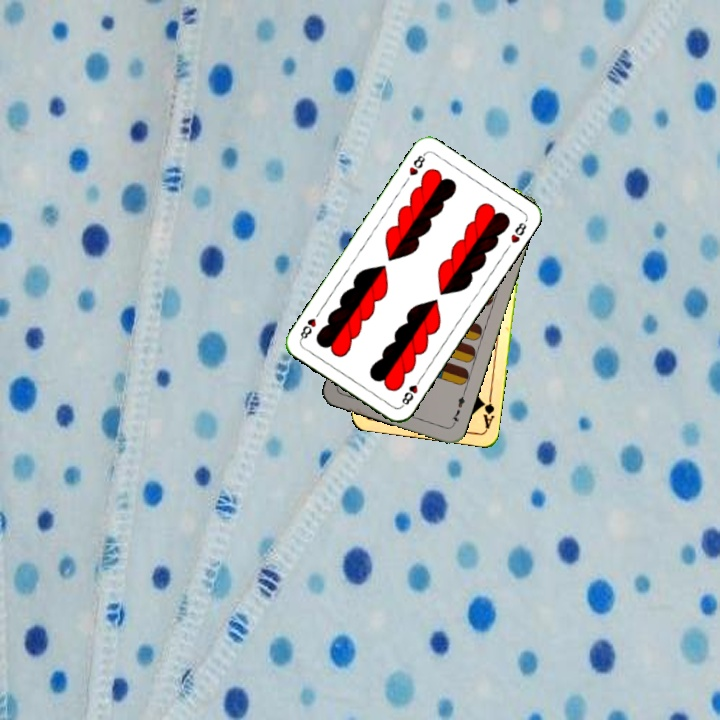E7: (448, 389, 468, 428)
GA: (478, 390, 497, 431)
H8: (397, 373, 424, 410), (405, 149, 428, 178)
